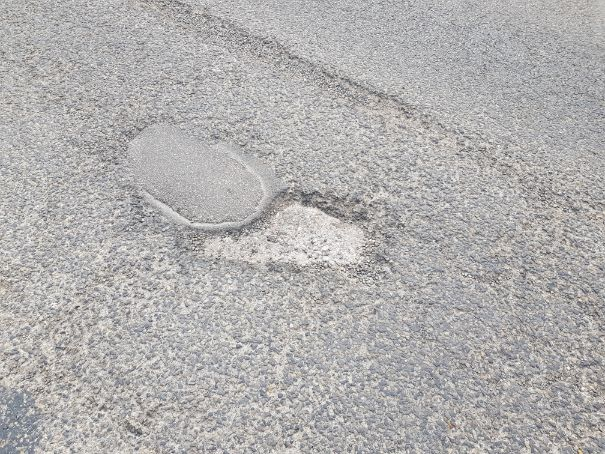pothole: (173, 180, 393, 279)
